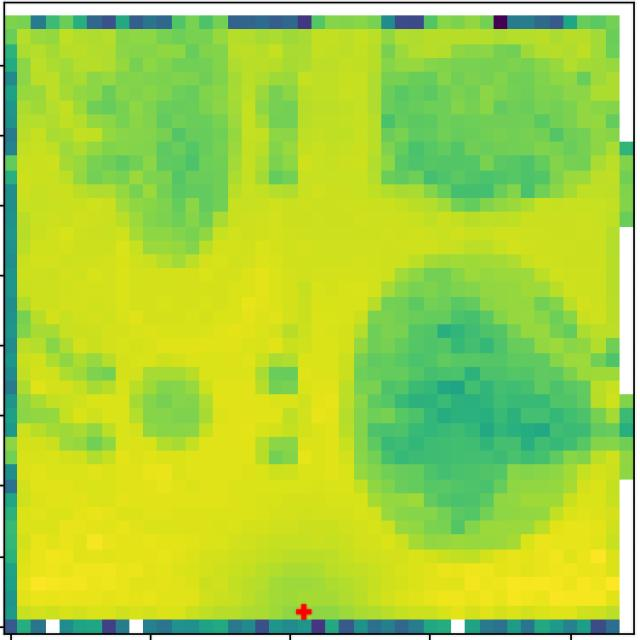Concrete: (142, 364, 207, 449)
Glass: (386, 320, 569, 485)
Metal: (115, 51, 230, 217)
Wood: (394, 55, 578, 180)
